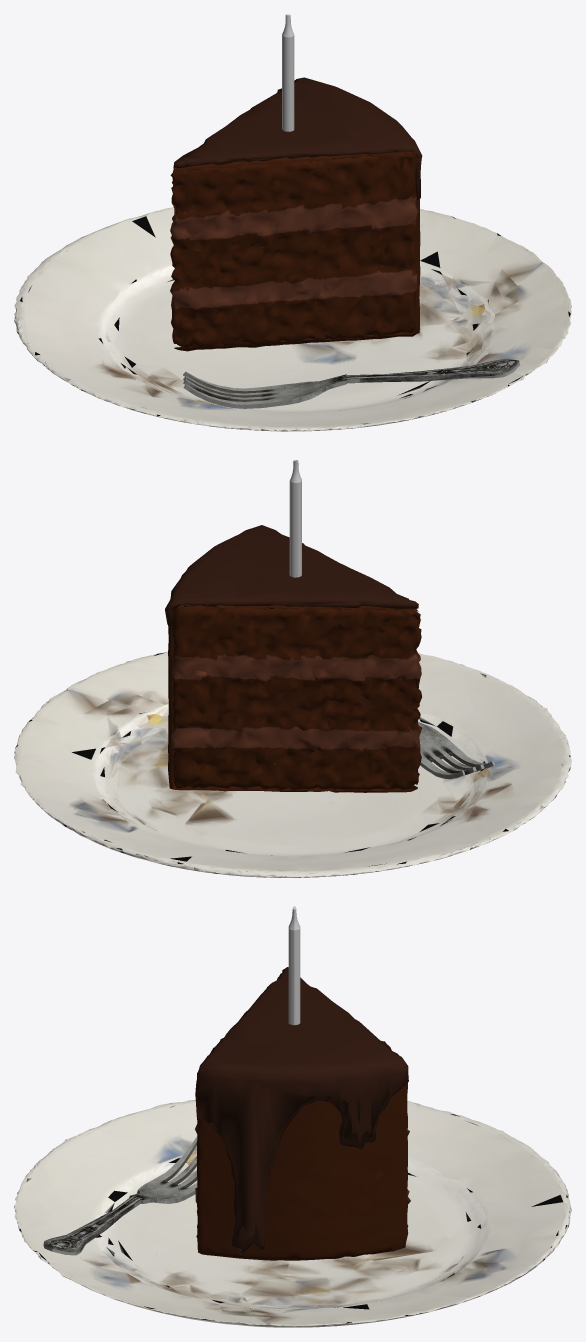
Rendered from ChocolateCakeSlice.fbx.
3 renders of one model, top to bottom at view 1: azimuth 30°, elevation 25°; view 2: azimuth 150°, elevation 25°; view 3: azimuth 270°, elevation 25°, orthographic.
Parts seen in each view (by area): view 1: SlicePlate.001_Baked, Slice.001_Baked, Fork_low_01_Baked, Slice Birthday Candle; view 2: SlicePlate.001_Baked, Slice.001_Baked, Fork_low_01_Baked, Slice Birthday Candle; view 3: SlicePlate.001_Baked, Slice.001_Baked, Fork_low_01_Baked, Slice Birthday Candle.
Part boxes in pixels (x1,y1,x2,y2): SlicePlate.001_Baked: [14, 207, 571, 431]; Slice.001_Baked: [170, 77, 422, 351]; Fork_low_01_Baked: [183, 359, 520, 408]; Slice Birthday Candle: [282, 14, 294, 131]; SlicePlate.001_Baked: [14, 651, 571, 877]; Slice.001_Baked: [165, 525, 421, 792]; Fork_low_01_Baked: [418, 721, 494, 779]; Slice Birthday Candle: [289, 460, 301, 577]; SlicePlate.001_Baked: [14, 1100, 571, 1327]; Slice.001_Baked: [195, 967, 410, 1260]; Fork_low_01_Baked: [43, 1136, 197, 1255]; Slice Birthday Candle: [288, 906, 300, 1025].
Bounding box in the file's own units: 561 × 374 × 561.
